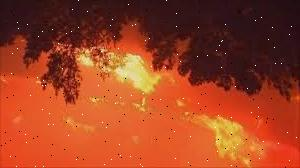fire: (57, 47, 159, 145), (175, 100, 278, 166)
